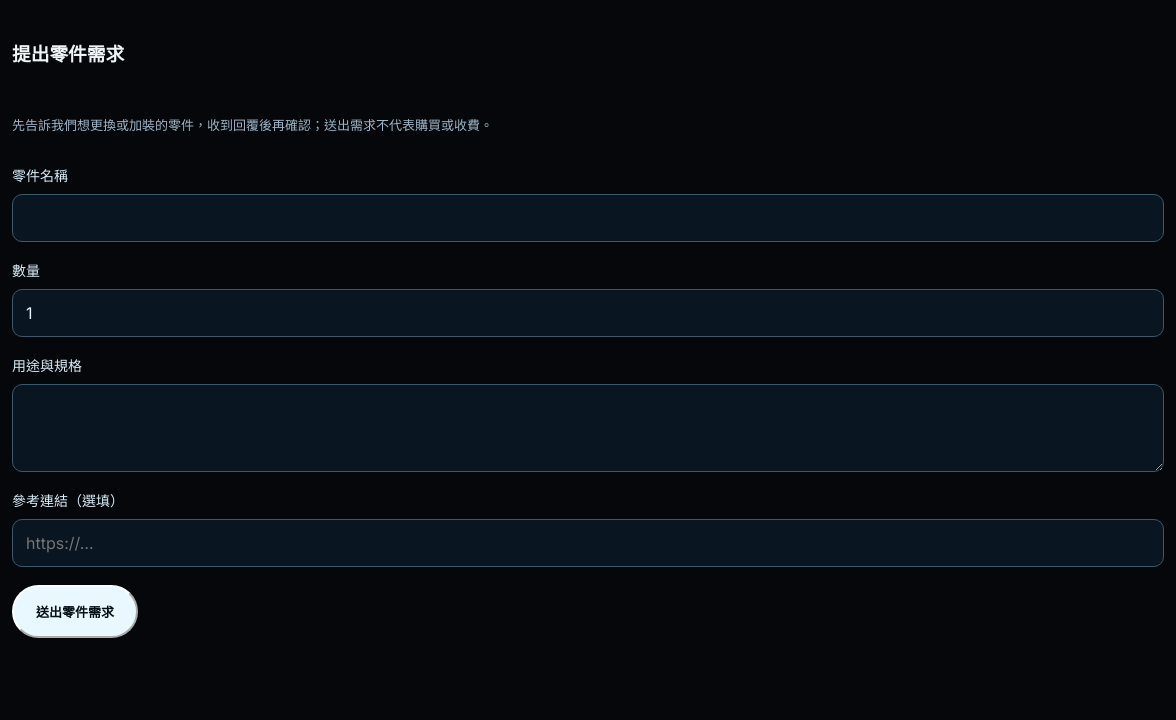
Test: failed reconciliation keeps an uncertain submission blocked and shows the reload error
The image size is (1176, 720).
Step 1. Type "SSD" into the field labelled "零件名稱" → coordinates (588, 218), box [12,194,1164,242]
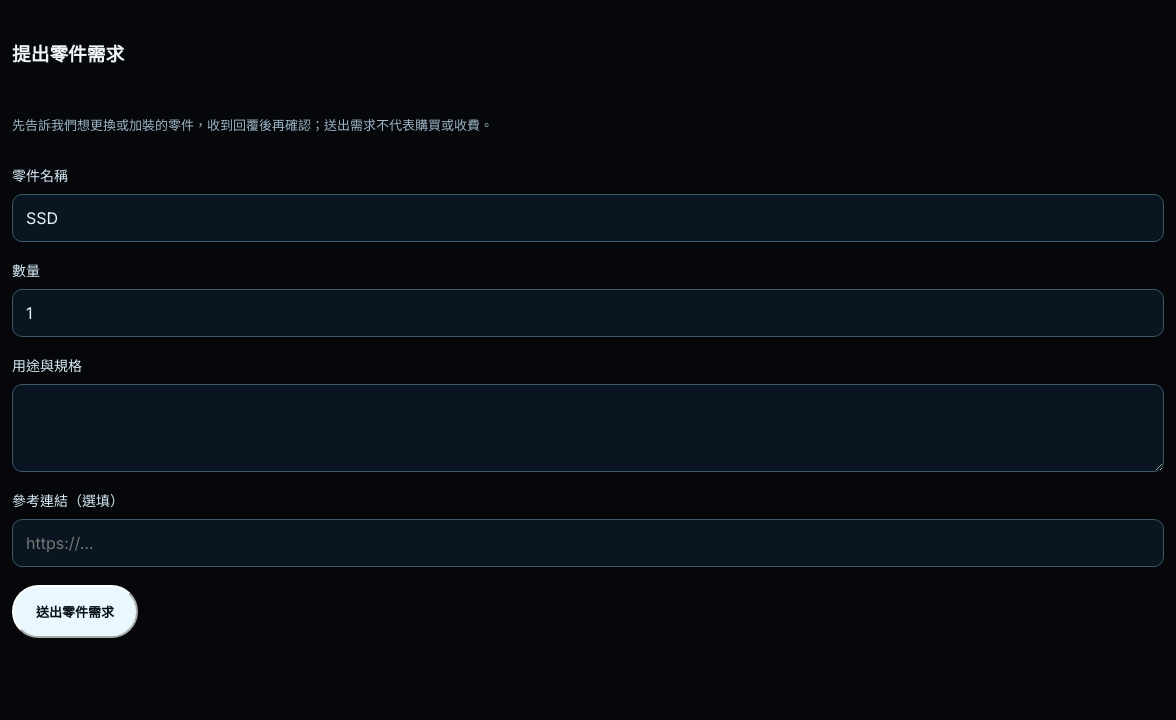
Step 2. Type "升級" into the text box labelled "用途與規格" → coordinates (588, 428), box [12,384,1164,472]
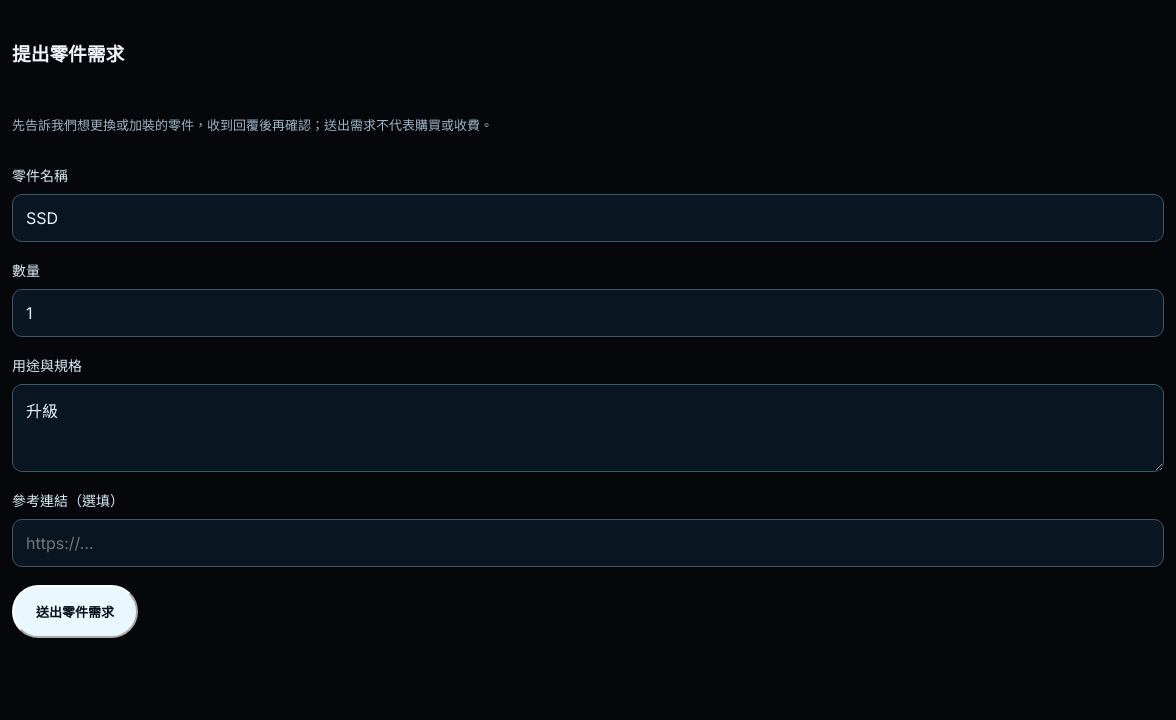
Step 3. Click the button "送出零件需求" → coordinates (75, 612), box [12,585,138,638]
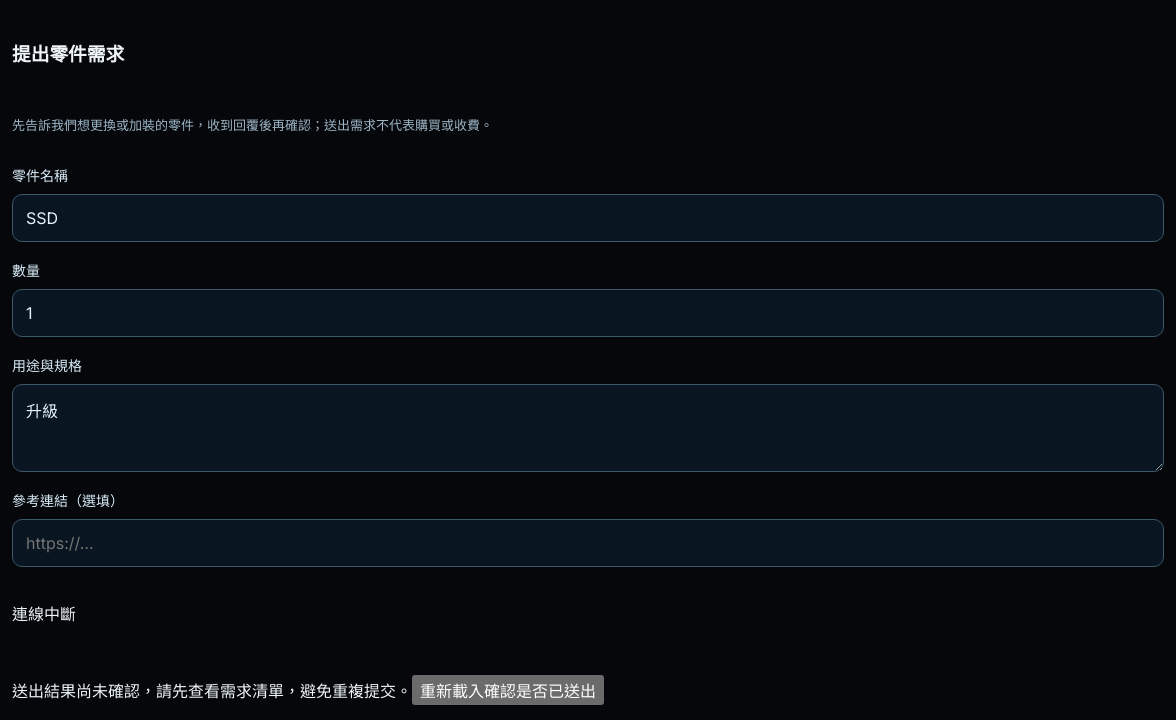
Step 4. Click the button "重新載入確認是否已送出" → coordinates (508, 690), box [412,675,604,705]
(page scrolled)
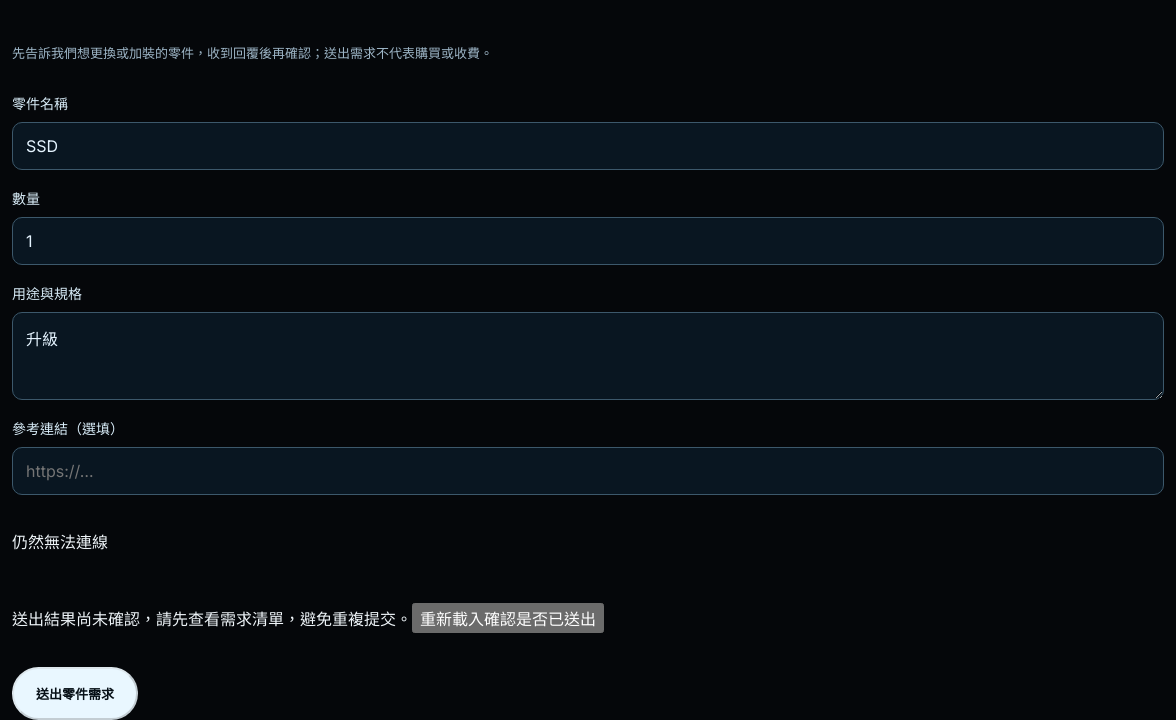
Expected: the button "送出零件需求" is disabled, [12,667,138,719]
Expected: the message reads "仍然無法連線", [12,532,108,552]
